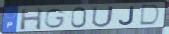0: (70, 6, 88, 29)
D: (138, 4, 162, 27)
G: (45, 8, 68, 29)
H: (19, 7, 44, 31)
J: (118, 5, 136, 26)
U: (90, 5, 116, 28)
